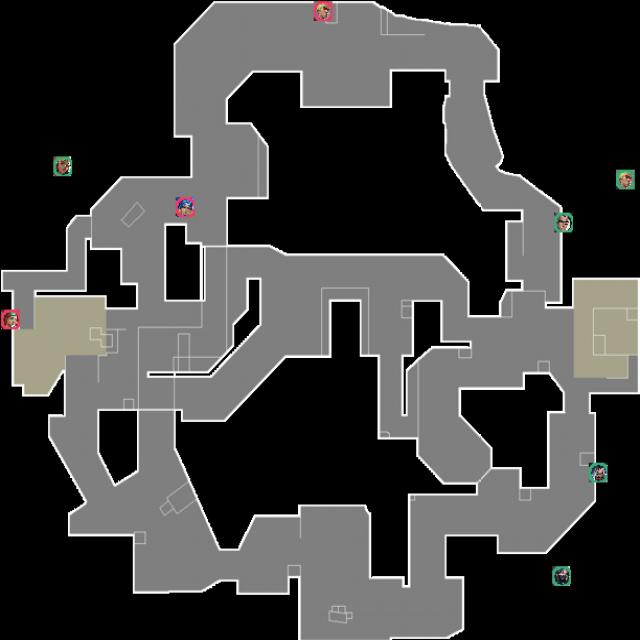atk_gekko: (314, 1, 332, 21)
atk_neon: (176, 197, 194, 217)
atk_skye: (1, 310, 20, 330)
def_chamber: (554, 212, 573, 232)
def_fade: (588, 462, 608, 482)
def_gekko: (616, 170, 635, 190)
def_raze: (53, 156, 72, 176)
def_viper: (552, 566, 571, 586)
